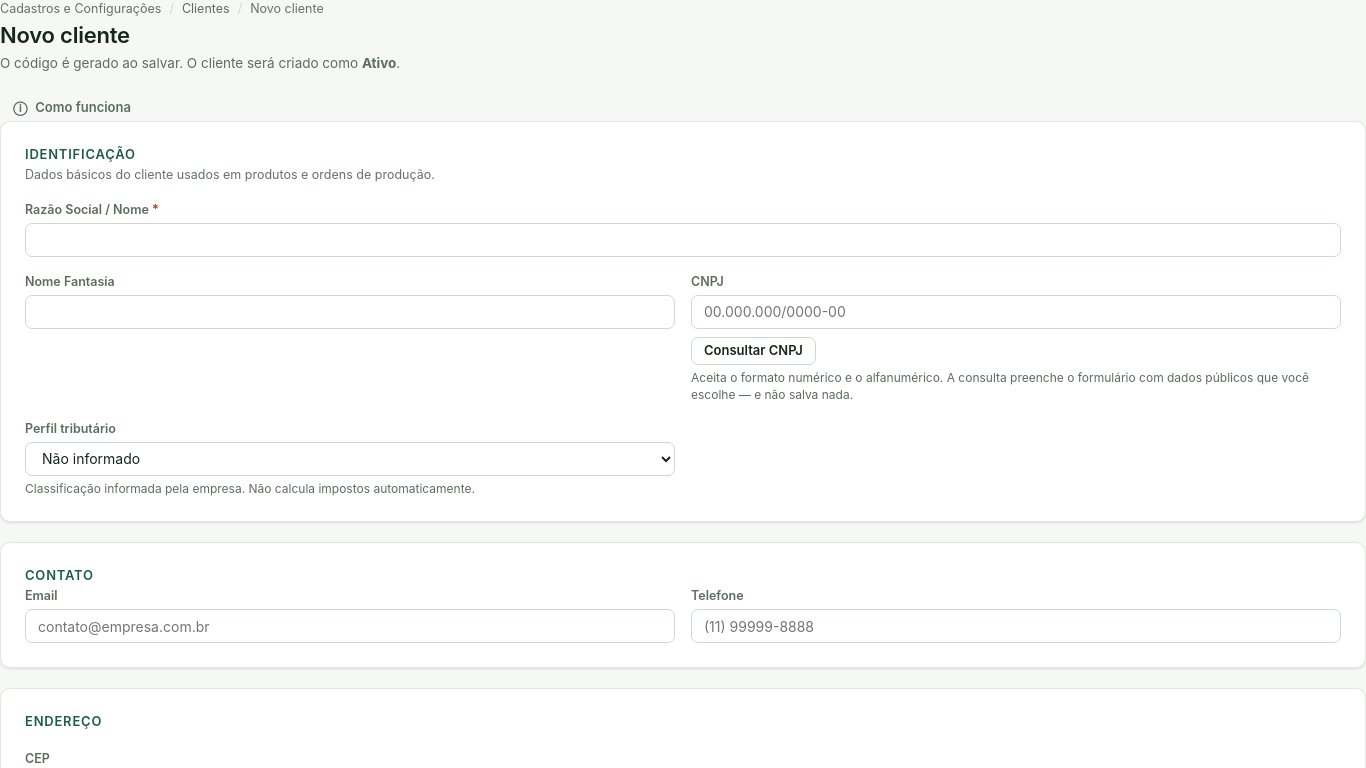
it: CUSTOMER-EDIT-PERMISSIONS-01 — Comercial e Administrador editam › ADMIN: Novo cliente abre o formulário e cria
Type "Nutrição Viva Ltda" into the field labelled "Razão Social / Nome *".
click(683, 240); type("Nutrição Viva Ltda")  # box [25,223,1341,257]
(page scrolled)
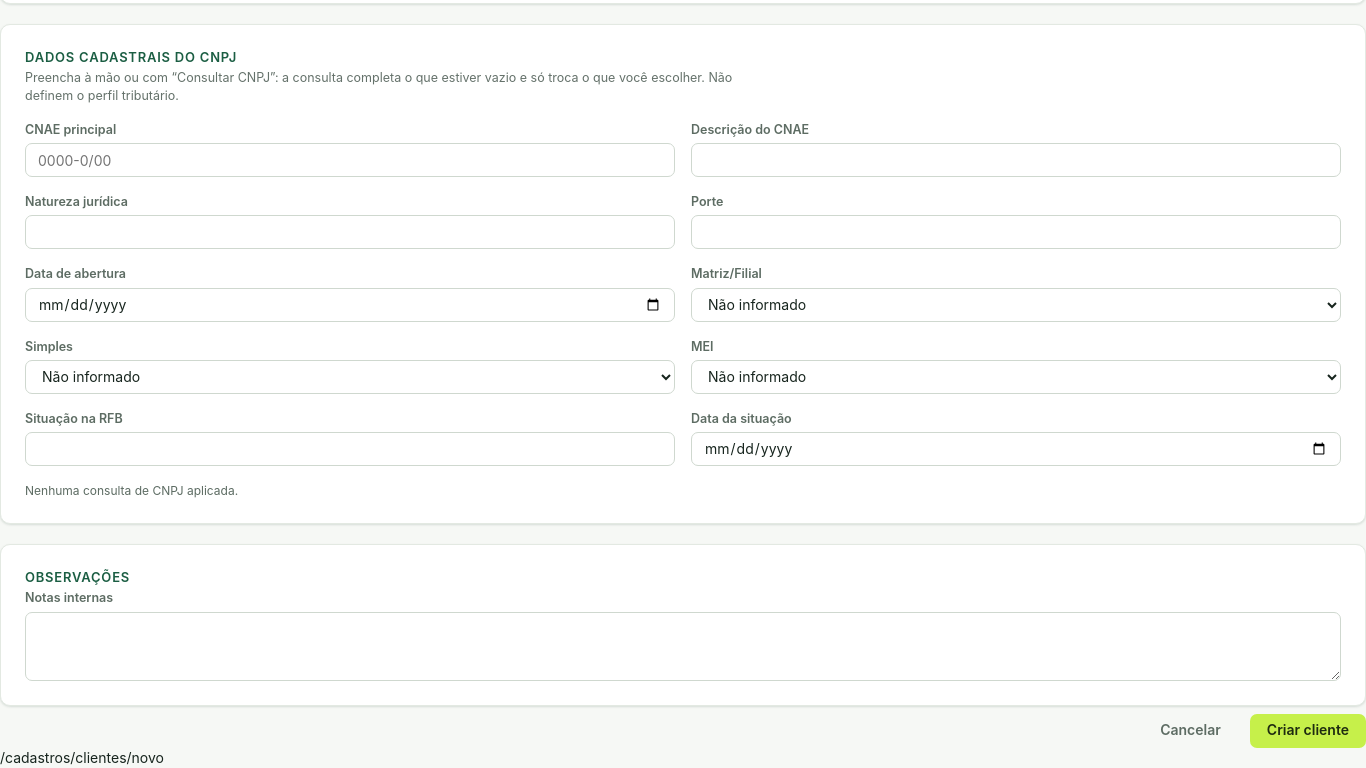
Click the button "Criar cliente".
click(1308, 730)  # box [1250,714,1365,748]
(page scrolled)
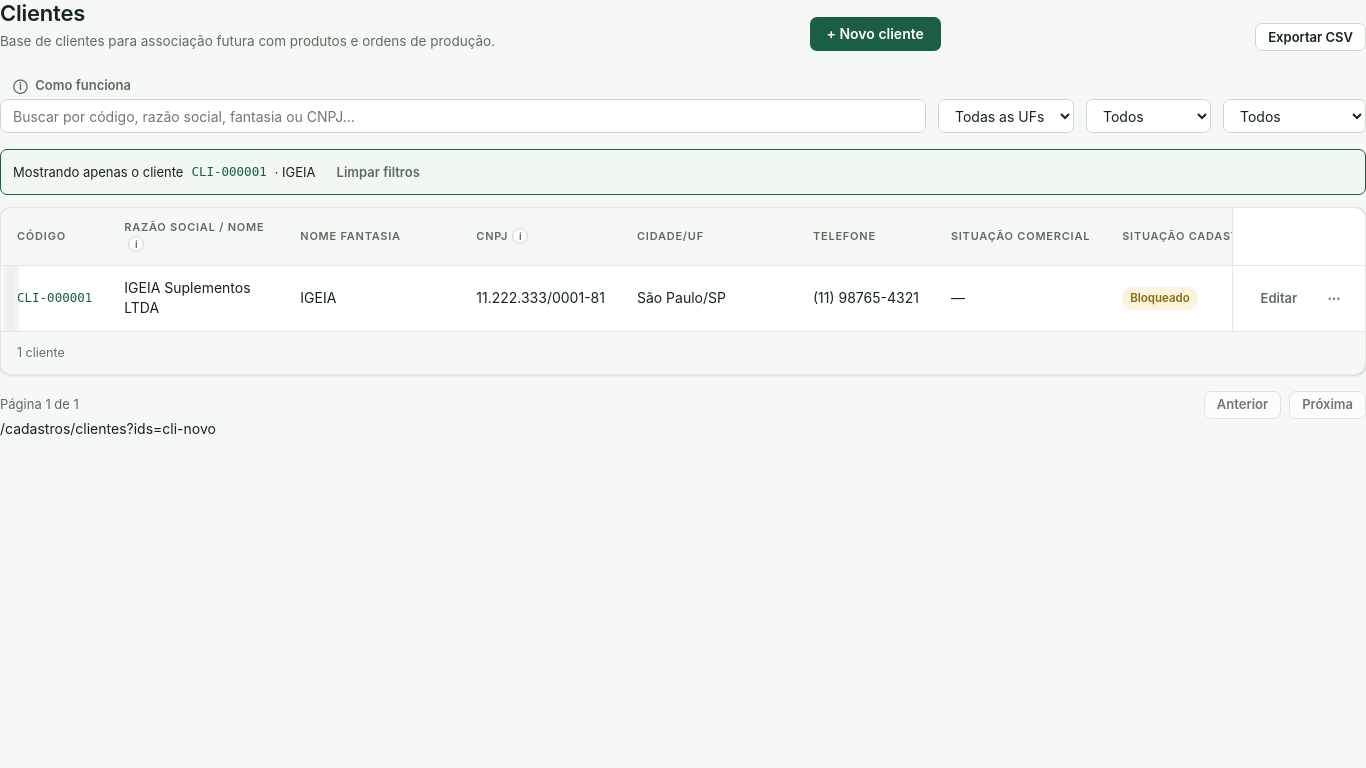
Now the text with test id "url" reads "/cadastros/clientes?ids=cli-novo", box [0,420,216,437]
